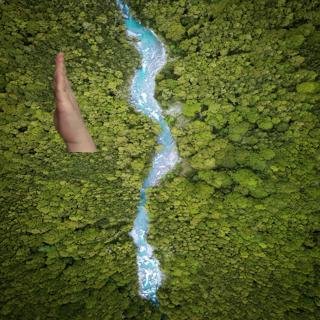RIGHT: (47, 49, 91, 144)
